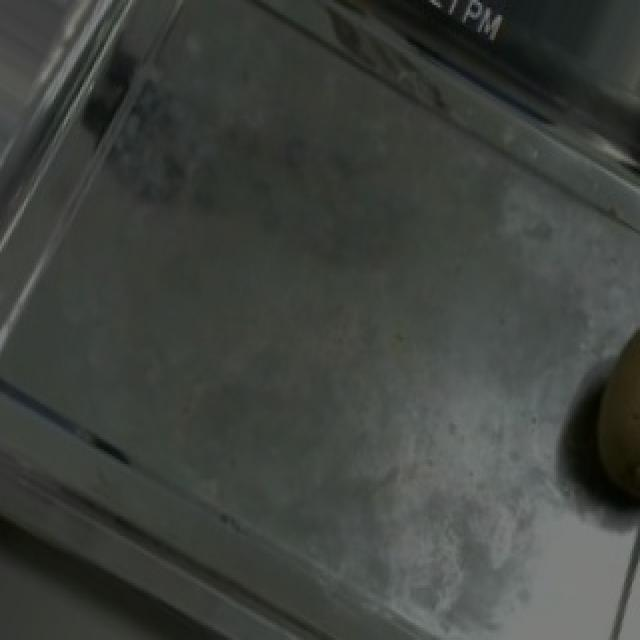Fruit: (542, 295, 640, 541)
